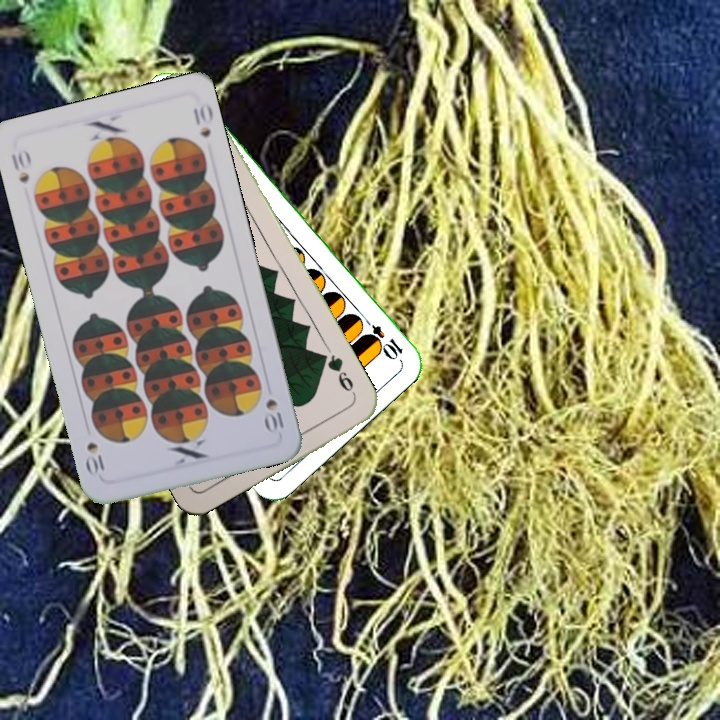E10: (357, 312, 406, 362)
G9: (316, 350, 359, 401)
S10: (261, 395, 288, 436), (7, 146, 34, 187)
